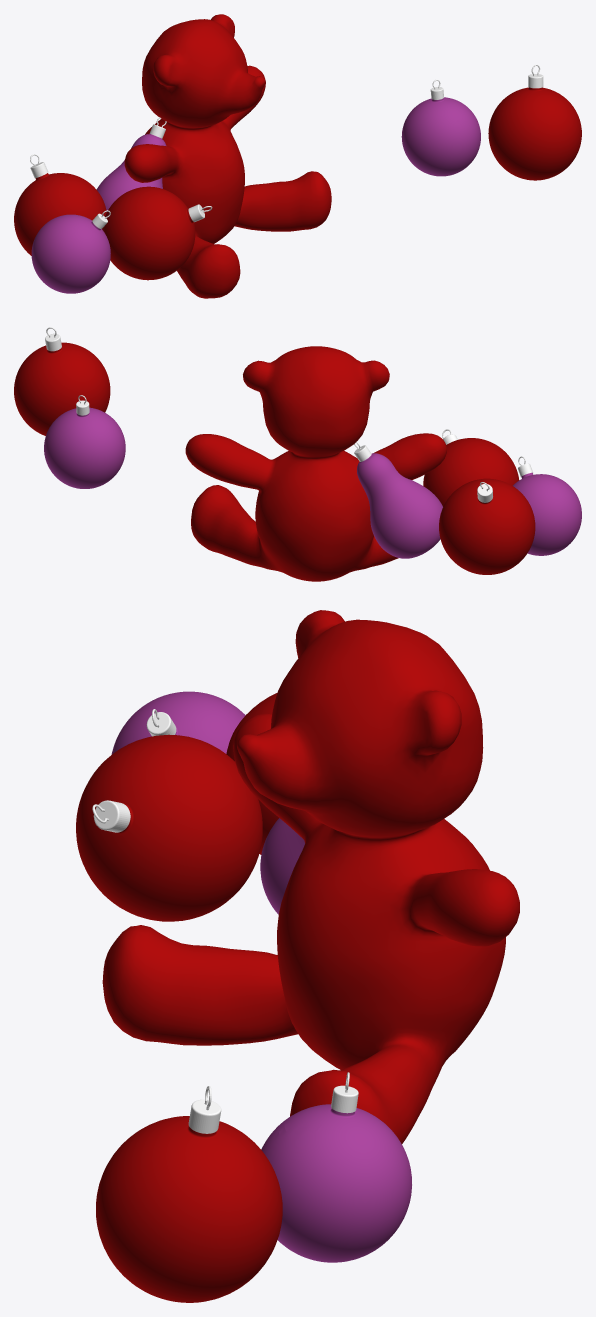
Rendered from oso_esferas2.glb.
3 renders of one model, top to bottom at view 1: azimuth 30°, elevation 25°; view 2: azimuth 150°, elevation 25°; view 3: azimuth 270°, elevation 25°, orthographic. The views are drawn at different scales.
Visible parts, largest first — view 1: Oso_Base03:Group42068, polySurface16.001, polySurface18, polySurface13, polySurface14, polySurface16, polySurface17; view 2: Oso_Base03:Group42068, polySurface16, polySurface16.001, polySurface17, polySurface14, polySurface13, polySurface18; view 3: Oso_Base03:Group42068, polySurface16.001, polySurface18, polySurface14, polySurface13, polySurface17, polySurface16, polySurface3.001, polySurface1.
Part boxes in pixels (left/top/right/bottom): Oso_Base03:Group42068: left=124, top=14, right=331, bottom=298; polySurface16.001: left=488, top=87, right=581, bottom=180; polySurface18: left=102, top=186, right=195, bottom=280; polySurface13: left=31, top=214, right=110, bottom=293; polySurface14: left=401, top=97, right=480, bottom=176; polySurface16: left=14, top=173, right=106, bottom=255; polySurface17: left=96, top=134, right=166, bottom=210; Oso_Base03:Group42068: left=185, top=346, right=446, bottom=581; polySurface16: left=439, top=478, right=535, bottom=574; polySurface16.001: left=14, top=342, right=110, bottom=435; polySurface17: left=357, top=453, right=442, bottom=558; polySurface14: left=44, top=407, right=125, bottom=488; polySurface13: left=513, top=472, right=581, bottom=555; polySurface18: left=423, top=438, right=519, bottom=506; Oso_Base03:Group42068: left=102, top=610, right=519, bottom=1143; polySurface16.001: left=96, top=1116, right=282, bottom=1302; polySurface18: left=76, top=734, right=262, bottom=921; polySurface14: left=261, top=1104, right=411, bottom=1262; polySurface13: left=111, top=691, right=245, bottom=754; polySurface17: left=260, top=818, right=304, bottom=914; polySurface16: left=226, top=693, right=278, bottom=854; polySurface3.001: left=188, top=1099, right=221, bottom=1133; polySurface1: left=93, top=800, right=130, bottom=832.
Bounding box in the file's own units: 4.91 × 1.93 × 1.75.
